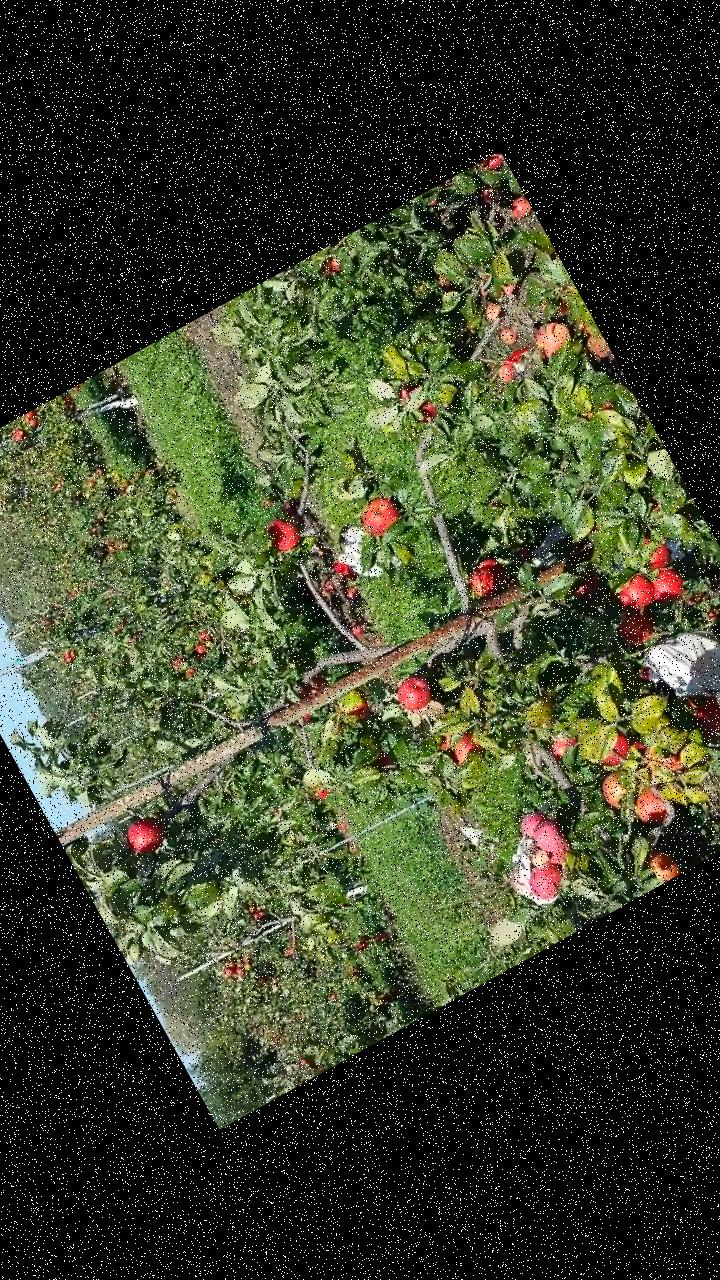Apple: (432, 721, 490, 776), (524, 314, 578, 370), (115, 808, 170, 862), (592, 764, 646, 816), (639, 732, 690, 786), (354, 492, 404, 544), (616, 737, 662, 793), (519, 858, 570, 908), (642, 562, 690, 611), (390, 670, 437, 719), (586, 722, 634, 769), (610, 603, 657, 651), (260, 512, 306, 560), (610, 568, 656, 615), (626, 783, 674, 827), (331, 686, 375, 732), (399, 378, 440, 426), (631, 534, 674, 577), (528, 816, 570, 858), (539, 724, 580, 766), (640, 844, 681, 886), (566, 567, 608, 607), (470, 551, 511, 591), (687, 695, 719, 745), (466, 564, 505, 602), (362, 744, 397, 779), (384, 376, 417, 412), (487, 357, 520, 391), (329, 554, 360, 590), (540, 835, 572, 868), (512, 811, 544, 841), (318, 253, 346, 283), (507, 540, 533, 570), (526, 844, 552, 871), (308, 778, 330, 802)
